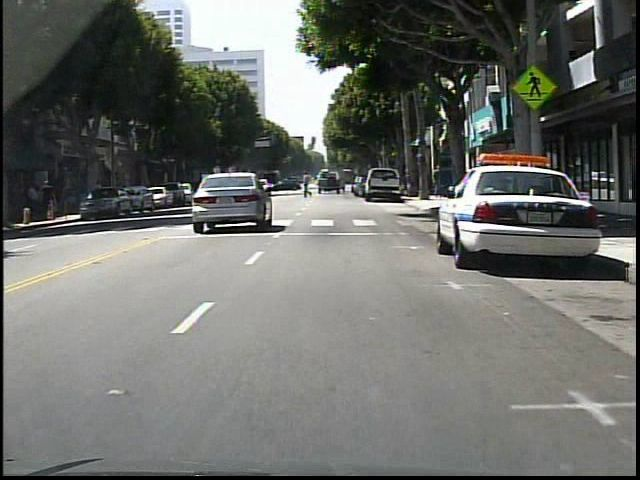person: (431, 164, 448, 205), (43, 180, 58, 221), (302, 169, 317, 203), (28, 183, 41, 220)
